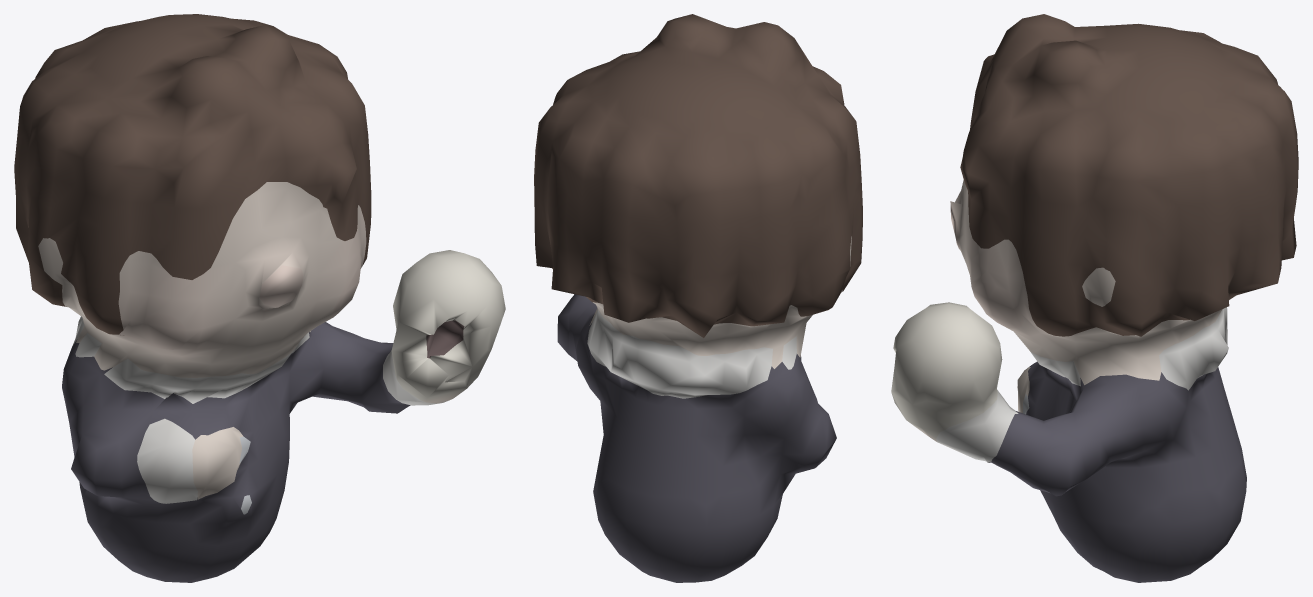
File: rider_c00_lo.glb
3 renders of one model, left to right at view 1: azimuth 30°, elevation 25°; view 2: azimuth 150°, elevation 25°; view 3: azimuth 270°, elevation 25°, orthographic. The views are drawn at different scales.
Parts seen in each view (by area): view 1: rider_c00_lo; view 2: rider_c00_lo; view 3: rider_c00_lo.
Boxes of the visible parts, x1,y1,x2,y2 form: rider_c00_lo: (14,14,505,582); rider_c00_lo: (534,14,862,582); rider_c00_lo: (891,14,1298,582).
Size of the model in its own units: 29.35 by 42.23 by 28.62.
